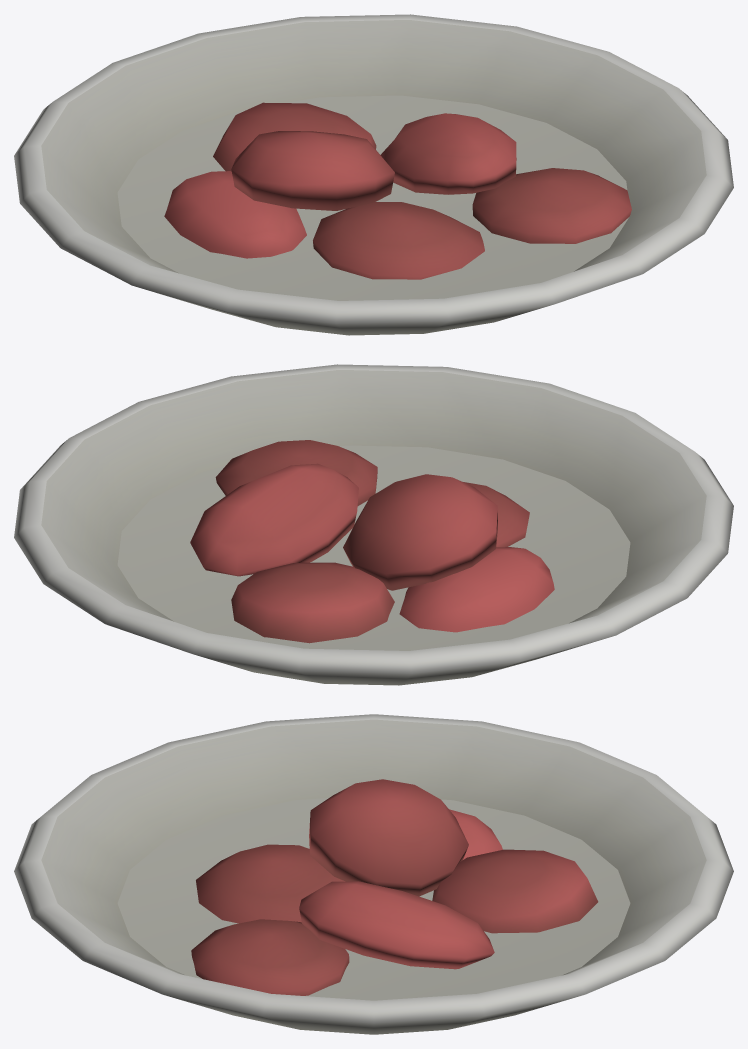
Rendered from peppironi.glb.
3 renders of one model, top to bottom at view 1: azimuth 30°, elevation 25°; view 2: azimuth 150°, elevation 25°; view 3: azimuth 270°, elevation 25°, orthographic.
Visible parts, largest first — view 1: SM_Dish_A.015, SM_Food_Sweets_01; view 2: SM_Dish_A.015, SM_Food_Sweets_01; view 3: SM_Dish_A.015, SM_Food_Sweets_01.
Part boxes in pixels (x1=…): SM_Dish_A.015: x1=14, y1=14, x2=733, y2=335; SM_Food_Sweets_01: x1=164, y1=102, x2=631, y2=279; SM_Dish_A.015: x1=14, y1=364, x2=733, y2=685; SM_Food_Sweets_01: x1=190, y1=440, x2=554, y2=643; SM_Dish_A.015: x1=14, y1=714, x2=733, y2=1034; SM_Food_Sweets_01: x1=191, y1=779, x2=598, y2=995.
Size of the model in its own units: 0.7473 by 0.125 by 0.7473.
Materials: 1 (1 with a texture image).
